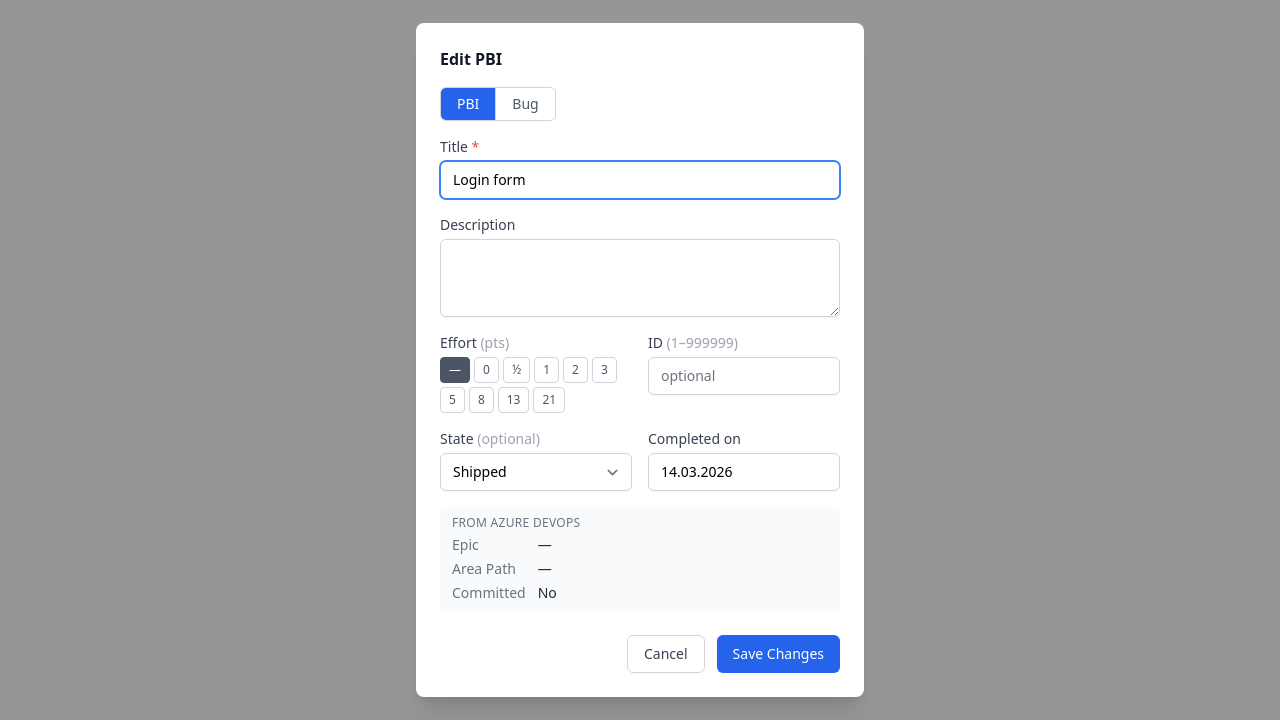
Test: PBIFormModal Completed on field › shows the saved date again when the State returns to done
Select "Committed" in the dropdown with test id "state-select" at (536, 472), box [440, 453, 632, 491]
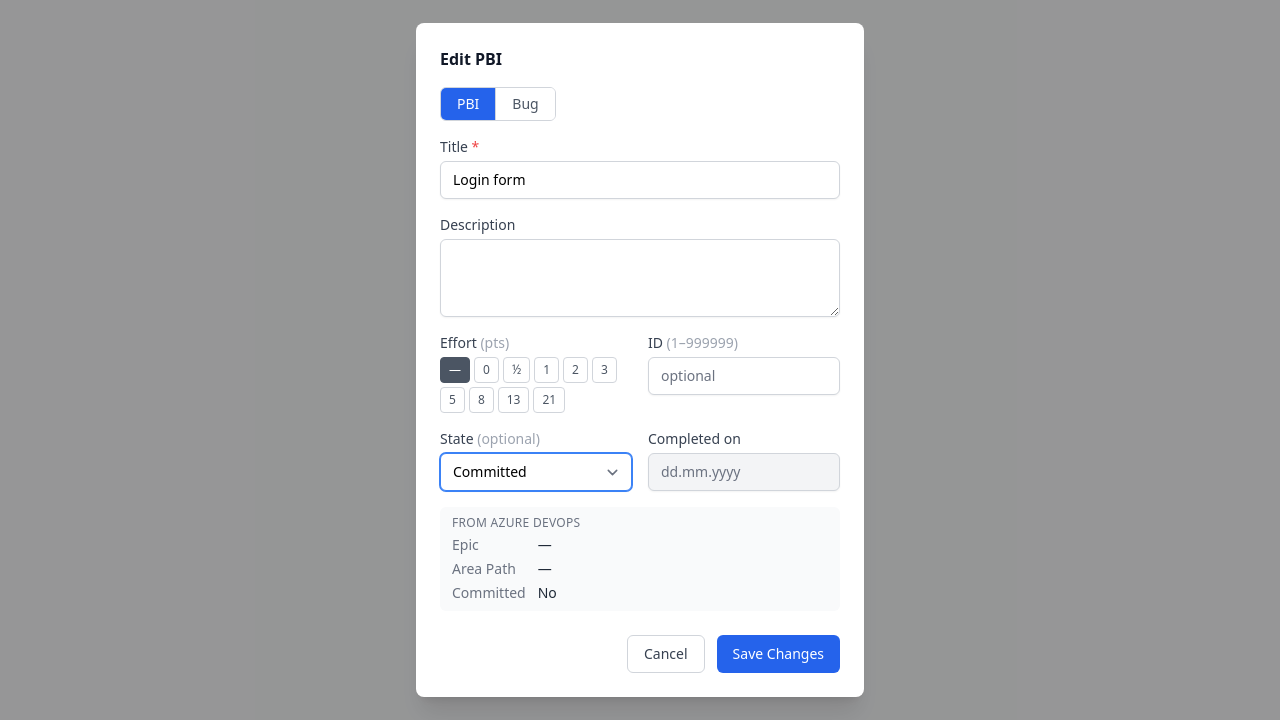
Select "Shipped" in the dropdown with test id "state-select" at (536, 472), box [440, 453, 632, 491]
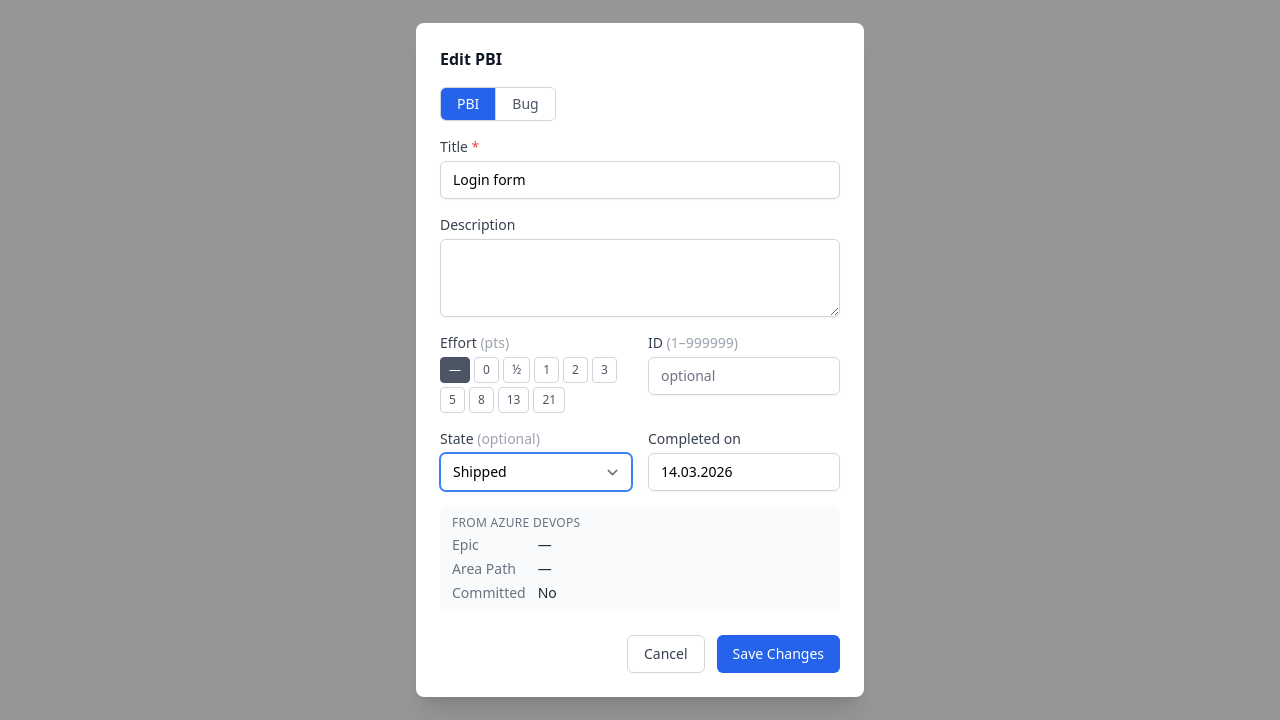
Now the field labelled "Completed on" holds "14.03.2026", box [648, 453, 840, 491]
